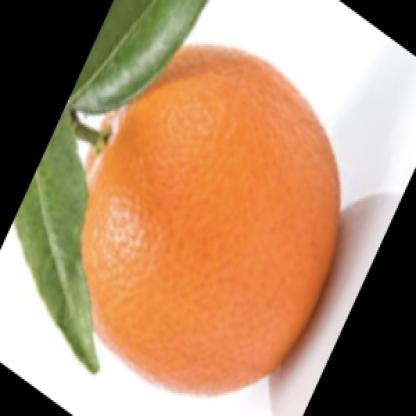fresh: (82, 45, 339, 393)
